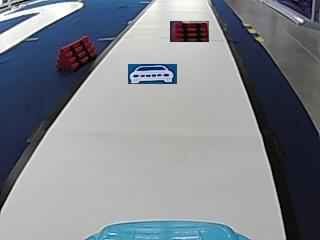bomb: (57, 33, 95, 71)
